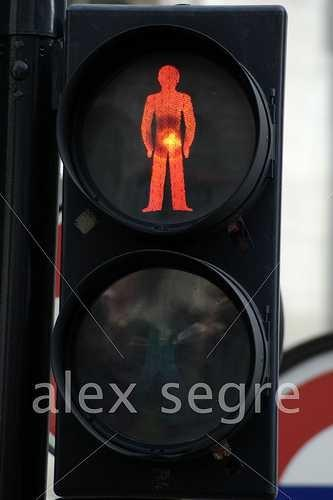red: (63, 14, 279, 236)
